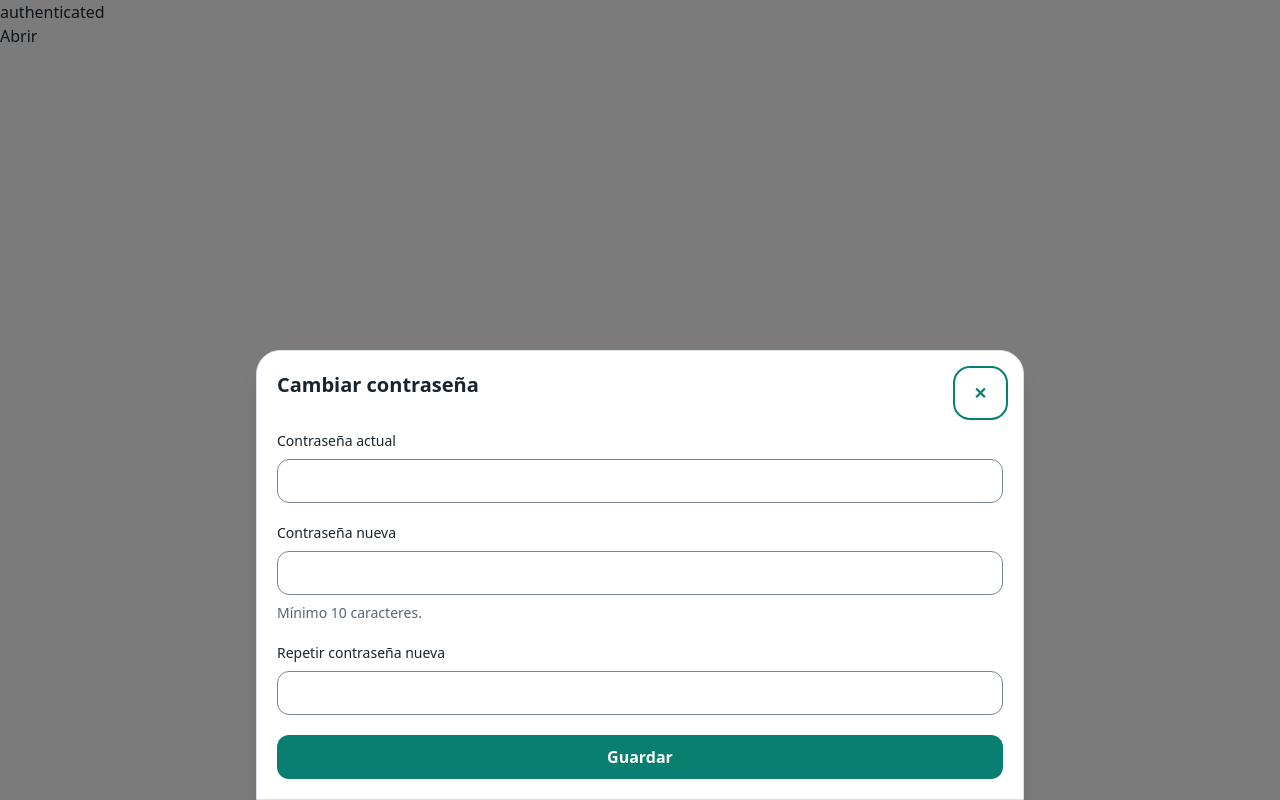
it: traduce el error 400 sin mostrar detalles técnicos
Expected: the text "authenticated" is shown, top-left (0, 1), bottom-right (105, 23)
Type "actual-segura" into the password field labelled "Contraseña actual" at (640, 481), box top-left (277, 459), bottom-right (1003, 503)
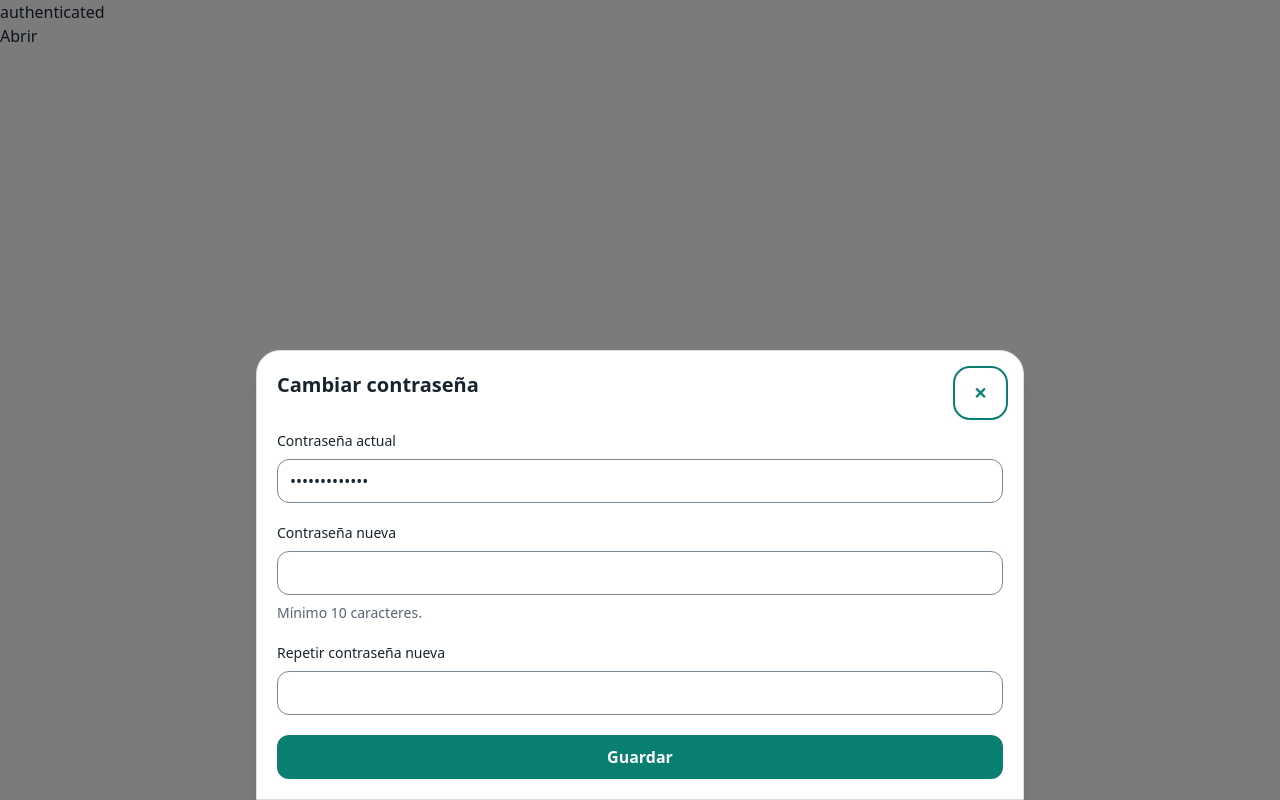
Type "nueva-segura" into the password field labelled "Contraseña nueva" at (640, 573), box top-left (277, 551), bottom-right (1003, 595)
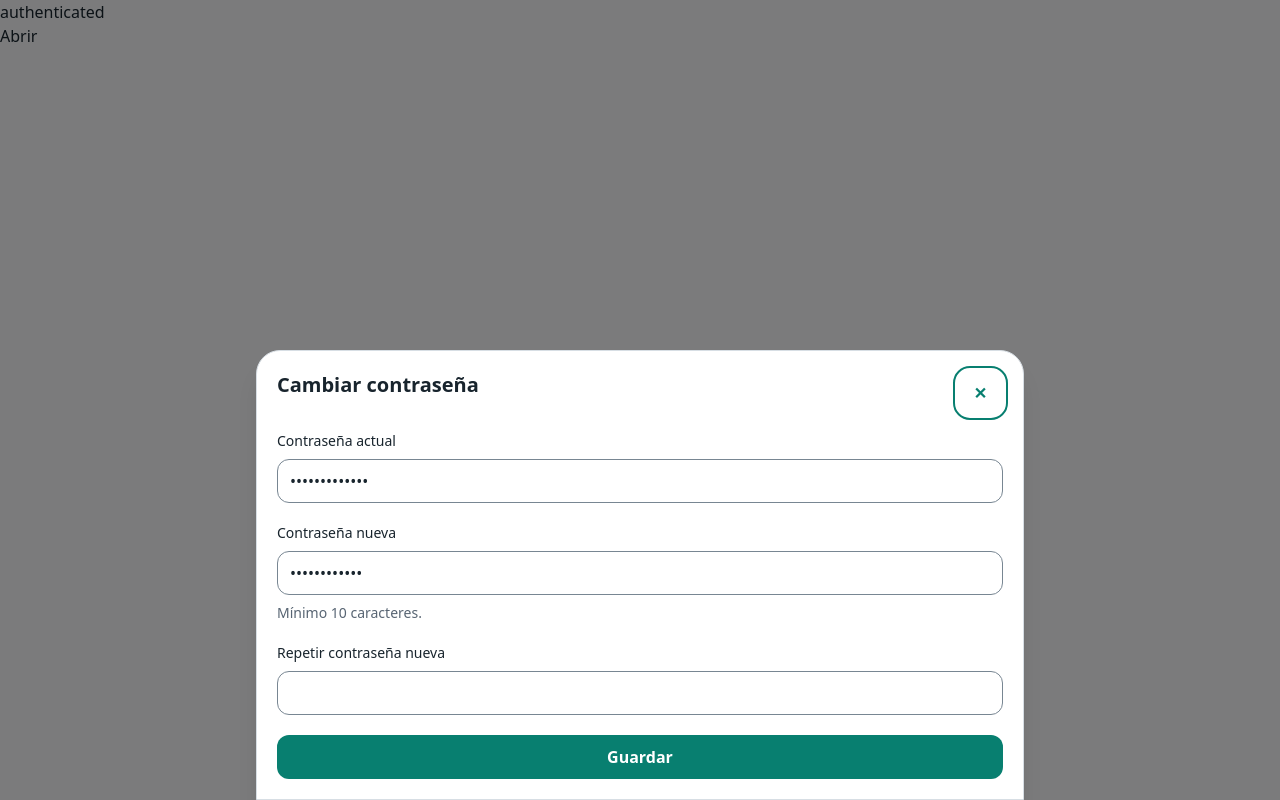
Type "nueva-segura" into the password field labelled "Repetir contraseña nueva" at (640, 693), box top-left (277, 671), bottom-right (1003, 715)
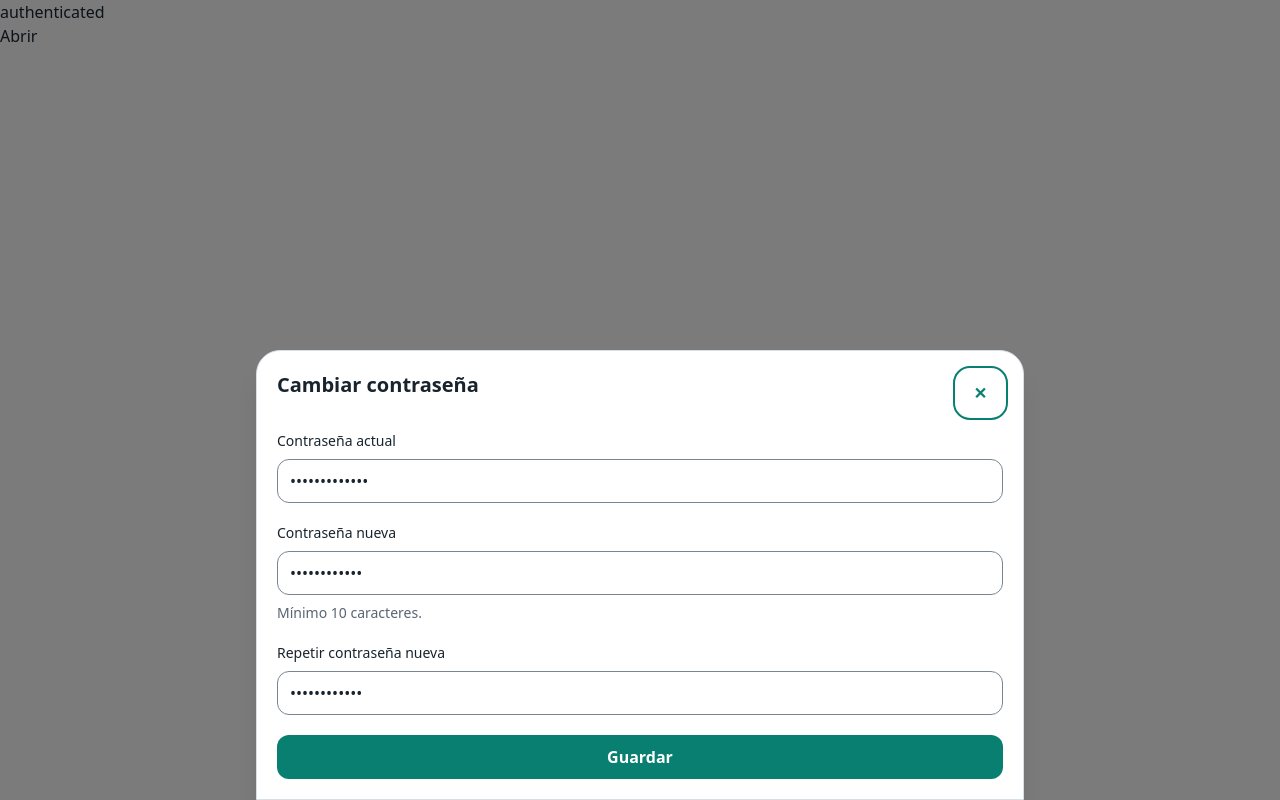
Click the button "Guardar" at (640, 757), box top-left (277, 735), bottom-right (1003, 779)
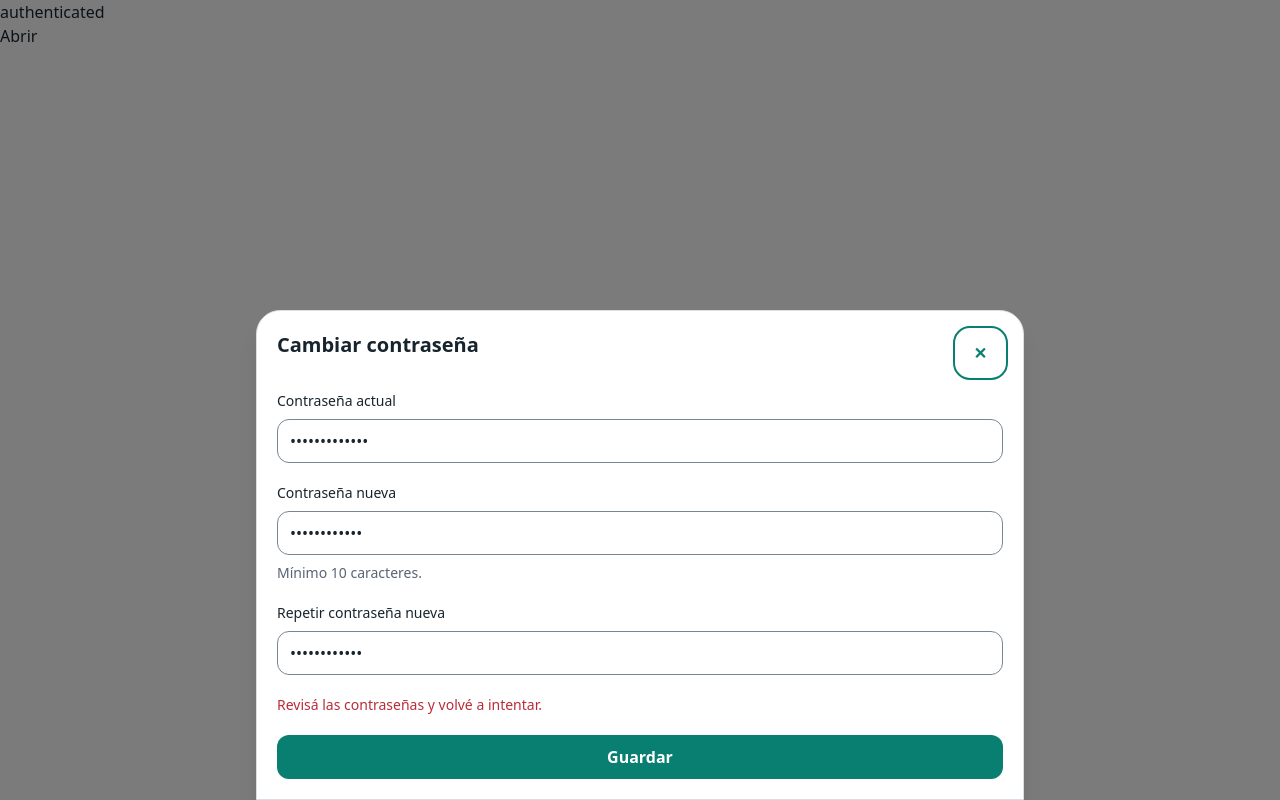
Expected: the dialog is shown, top-left (256, 310), bottom-right (1024, 799)
Now the message reads "Revisá las contraseñas y volvé a intentar.", box top-left (277, 695), bottom-right (542, 714)
